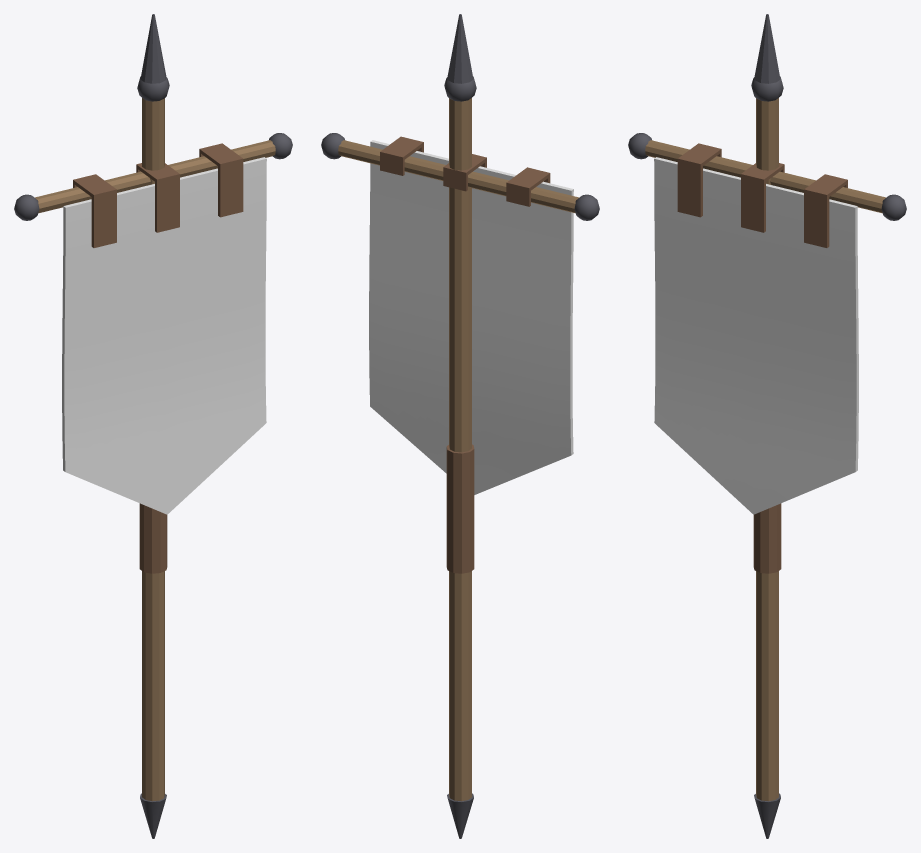
Rendered from banner_carry.glb.
3 views of the same model, side by side, from view 1: azimuth 30°, elevation 25°; view 2: azimuth 150°, elevation 25°; view 3: azimuth 330°, elevation 25° (orthographic).
Visible parts, largest first — view 1: banner_carry; view 2: banner_carry; view 3: banner_carry.
Part boxes in pixels (left/top/right/bottom): banner_carry: left=14, top=14, right=292, bottom=838; banner_carry: left=321, top=14, right=599, bottom=838; banner_carry: left=628, top=14, right=906, bottom=838.
Size of the model in its own units: 0.9561 by 2.74 by 0.141.
